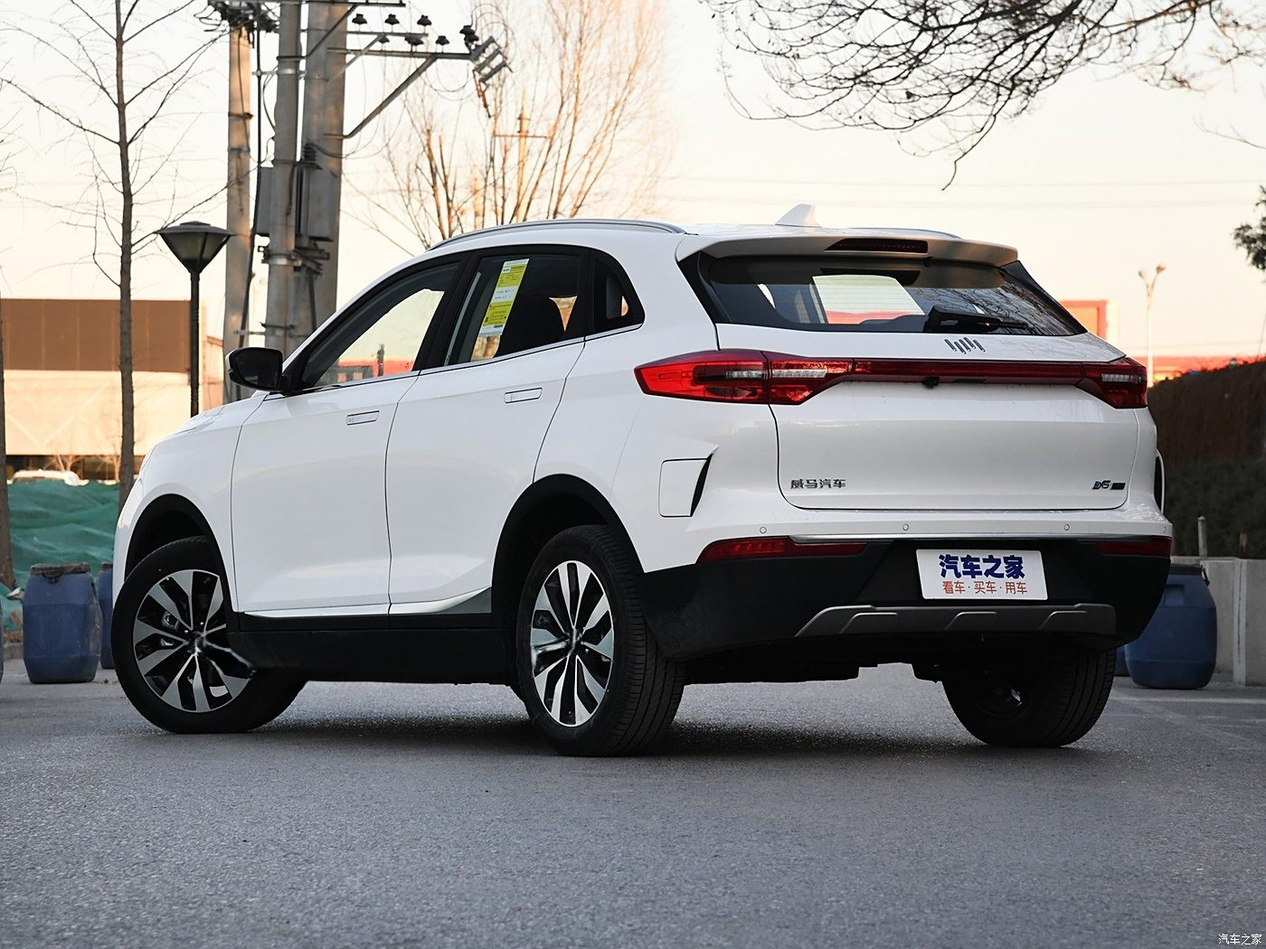WELTMEISTER: (945, 337, 985, 353)
